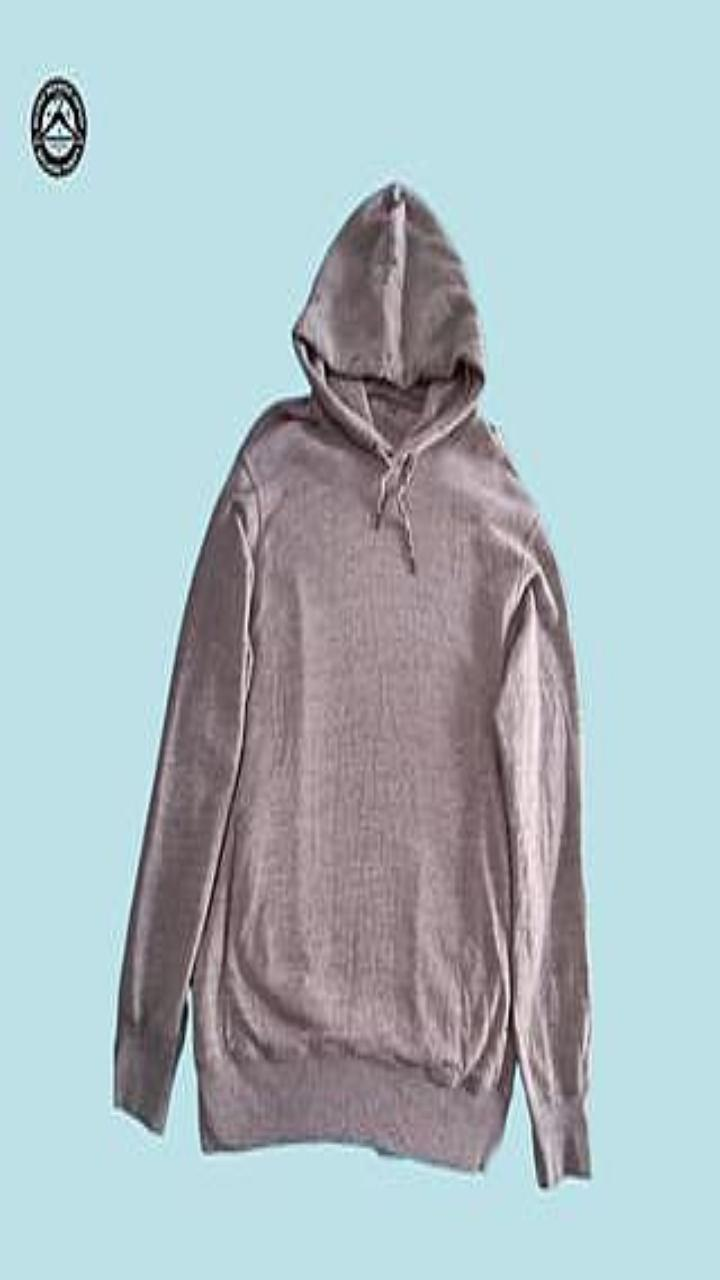Hoodie: (114, 182, 590, 1186)
